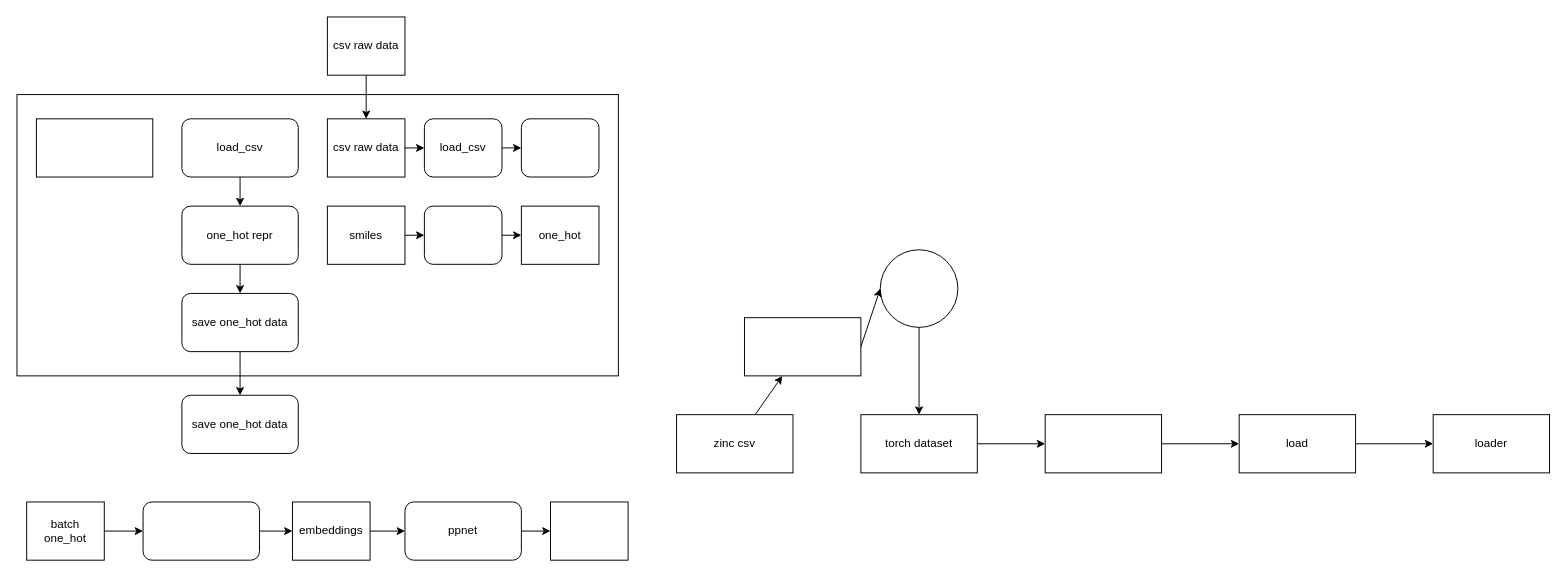
The diagram is 1567 pixels wide and 577 high, and some of its shapes have lost their labels. Each missing label, with the centre of its shape:
"Dataset._one _hot" goes at (x=462, y=234).
"one-hot" goes at (x=918, y=288).
"pretrained vae" goes at (x=200, y=530).
"property" goes at (x=589, y=530).
"save" goes at (x=1103, y=443).
"smiiles, targets" goes at (x=559, y=147).
"split_data" goes at (x=94, y=147).
"structured" goes at (x=802, y=346).
